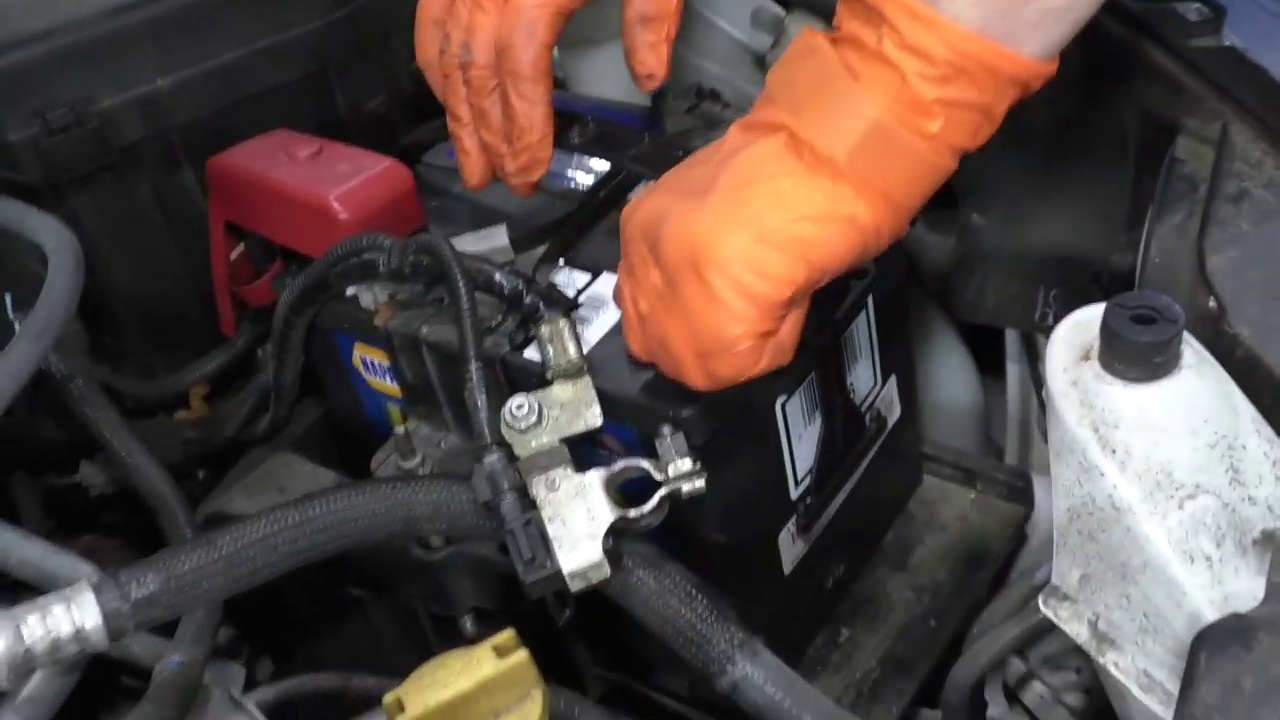battery: (281, 115, 876, 420)
pos_connected: (198, 107, 429, 321)
